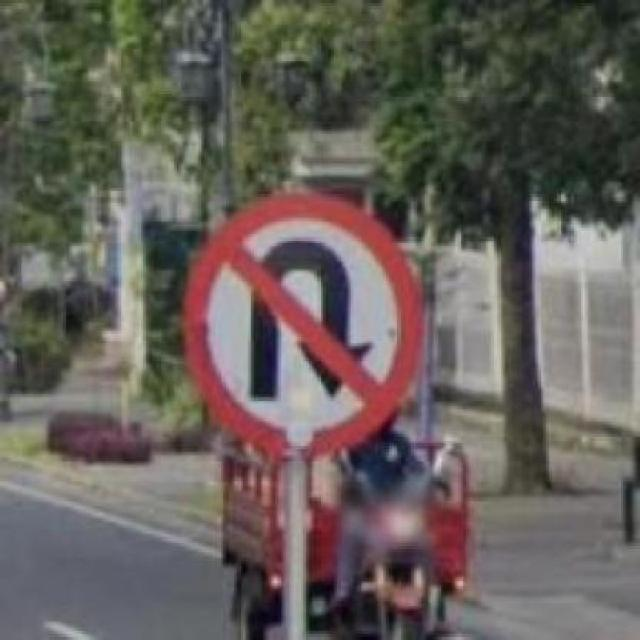u turn prohibited: (180, 180, 423, 453)
